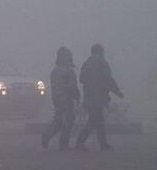person: (77, 44, 125, 152), (41, 45, 80, 149)
